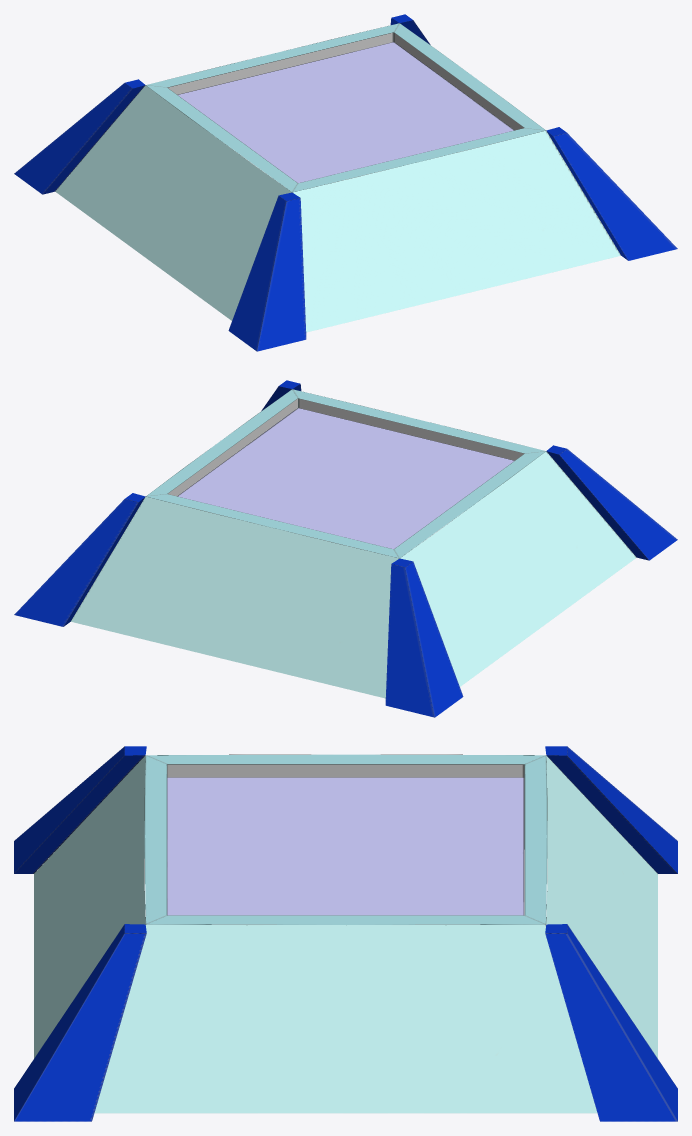
The model's file is GunPlaceholder.fbx.
The picture shows the model from 3 angles, top to bottom: view 1: azimuth 30°, elevation 25°; view 2: azimuth 150°, elevation 25°; view 3: azimuth 270°, elevation 25°; orthographic projection. The views are drawn at different scales.
Parts seen in each view (by area): view 1: Cube; view 2: Cube; view 3: Cube.
Part boxes in pixels (x1,y1,x2,y2): Cube: (14, 14, 677, 351); Cube: (14, 380, 677, 717); Cube: (14, 746, 677, 1121).
Size of the model in its own units: 400 by 94.04 by 400.
